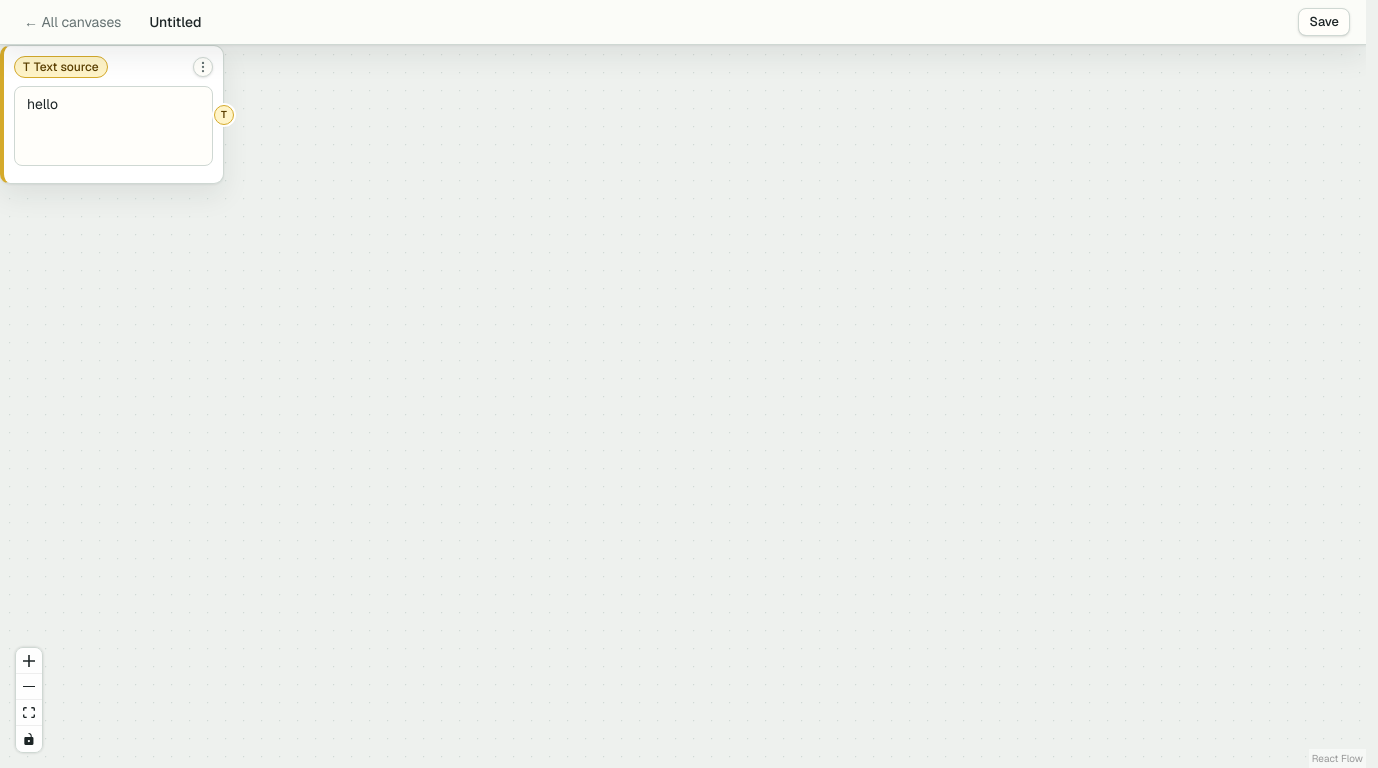
CanvasEditor drag-to-spawn (Handle-Spawned Node, issue #17) › opens a spawn picker listing only node types valid at the dragged handle
Expected: the text box with placeholder "Enter text…" is shown, [14,86,213,166]
Step 1. Press the mouse on the element with class "source" → (224, 114), box [221,112,227,118]
(page scrolled)
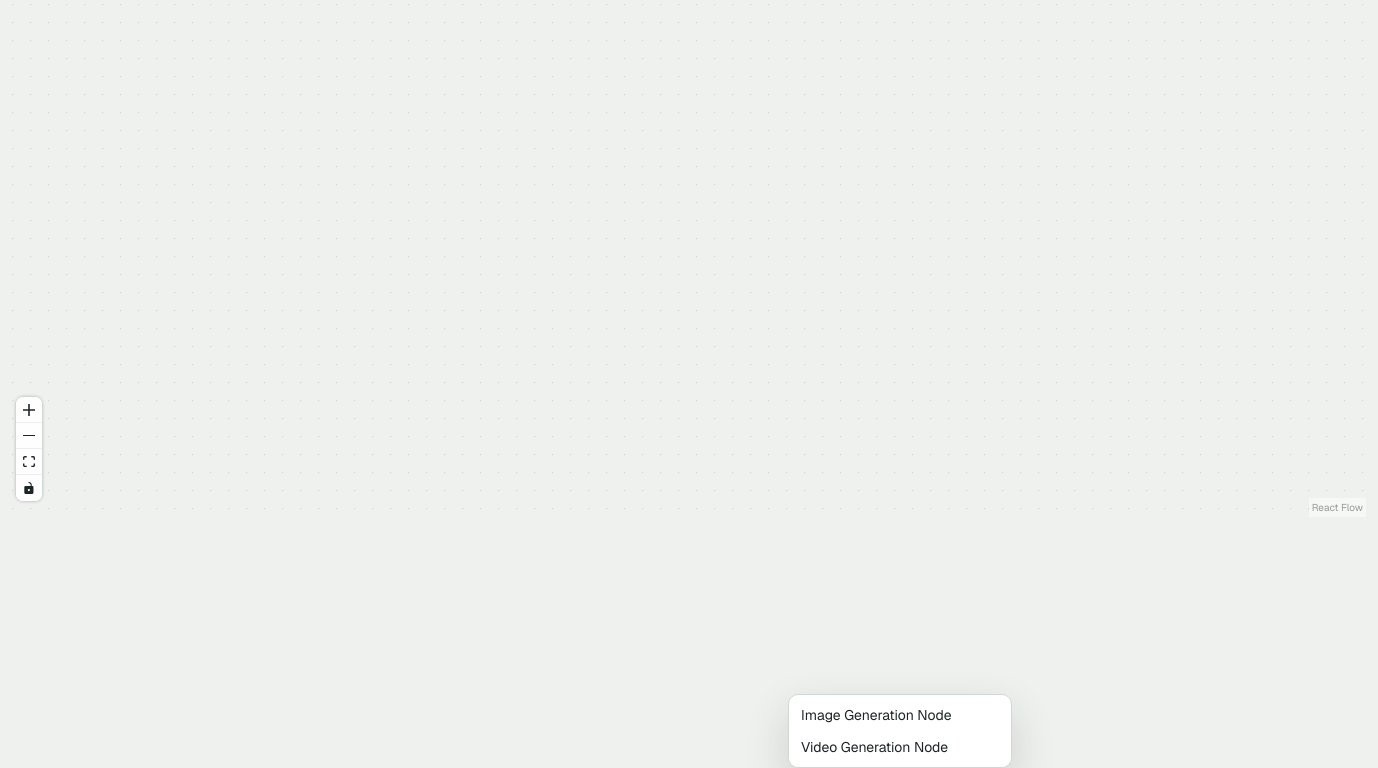
Expected: the menu item "Image Generation Node" is shown, [793,699,1007,731]
Expected: the menu item "Video Generation Node" is shown, [793,731,1007,763]
